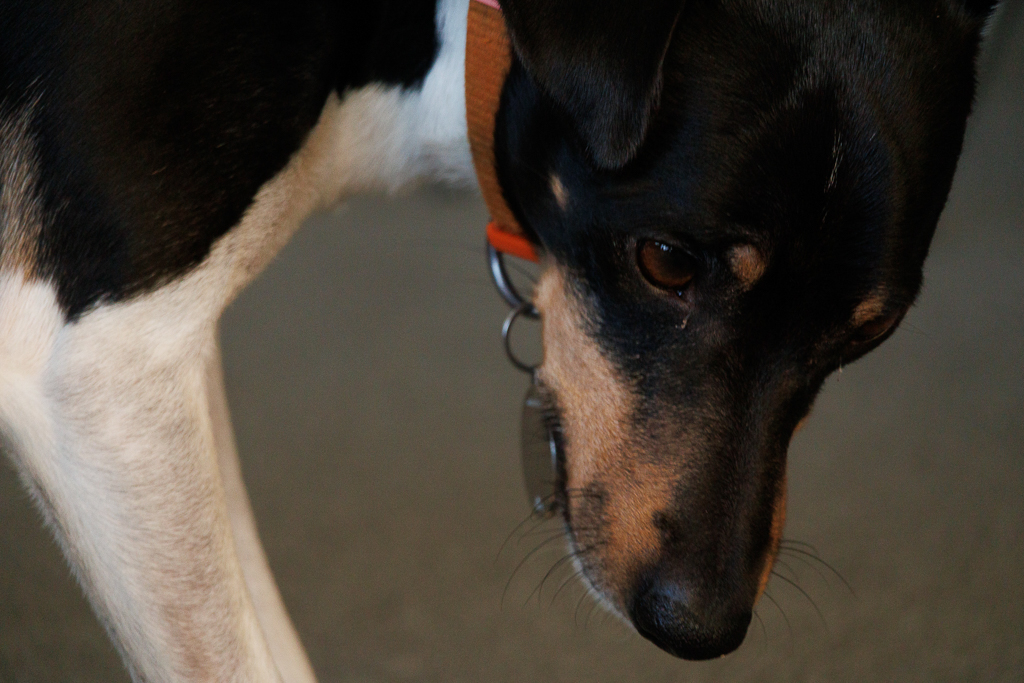Dog: (0, 0, 1003, 683)
